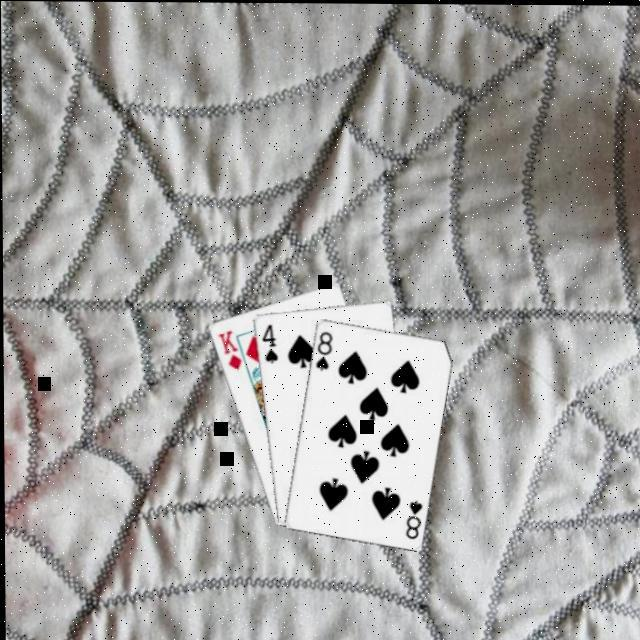4S: (256, 318, 278, 363)
8S: (398, 494, 422, 540), (310, 326, 332, 371)
KD: (212, 325, 242, 371)
